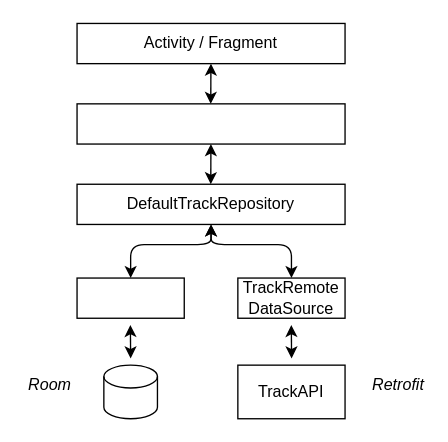
This 448x442 diagram has some shape labels left out. Here are the shapes that lost their labels. From the top down, the centre of each, then its label:
At (x=210, y=123): "ViewModel".
At (x=130, y=297): "TrackLocal DataSource".
